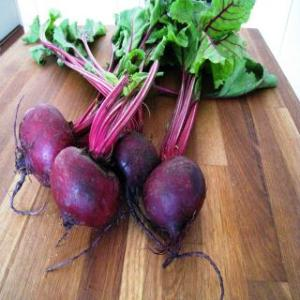beet: (53, 138, 117, 229), (12, 103, 80, 184), (146, 148, 198, 248), (115, 127, 157, 184)
